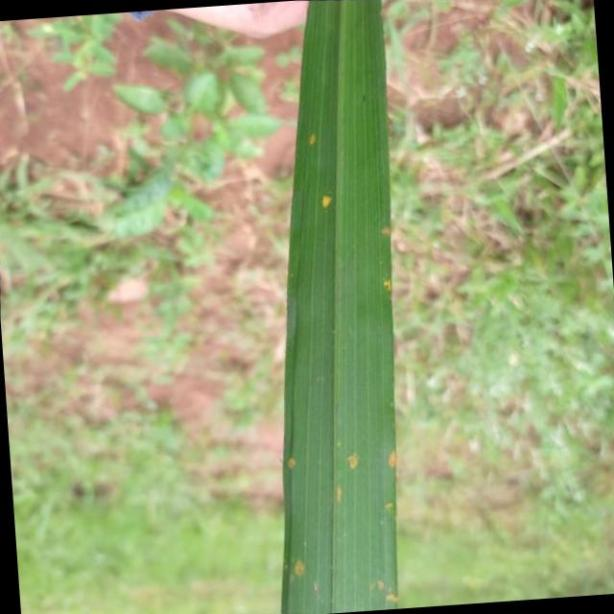Kalium: (283, 0, 400, 614)
